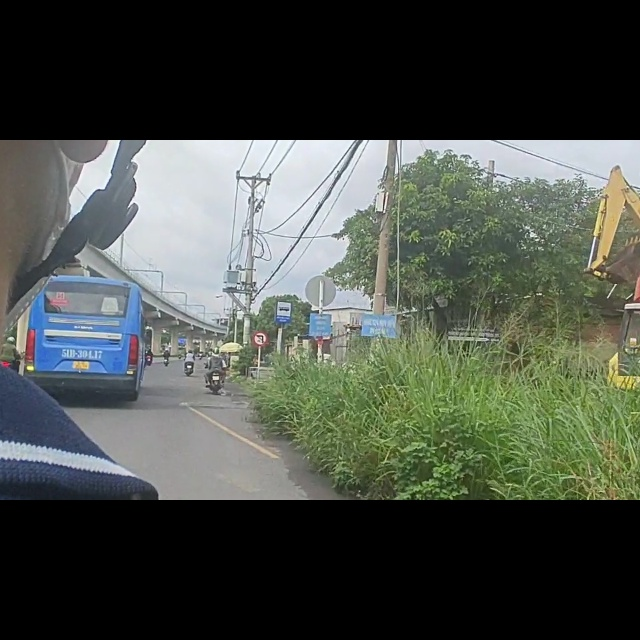bien_cam: (275, 283, 293, 327), (253, 339, 269, 366)
